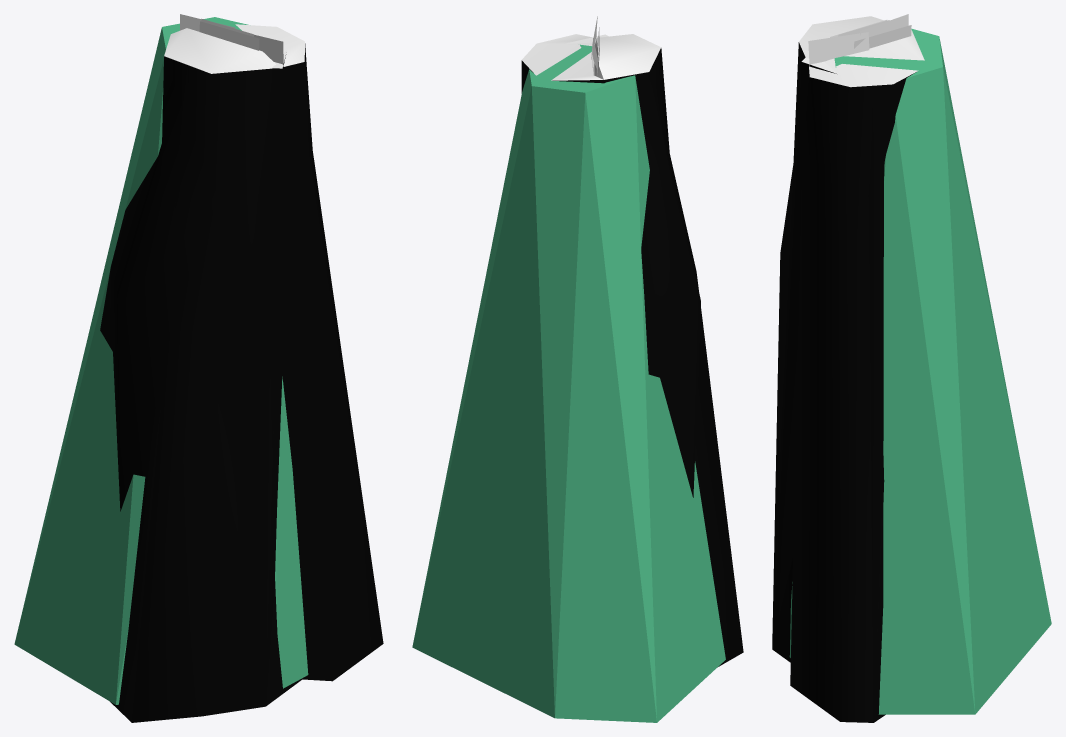
The model's file is tree_oak_chopped_a.dae.
3 views of the same model, side by side, from view 1: azimuth 30°, elevation 25°; view 2: azimuth 150°, elevation 25°; view 3: azimuth 270°, elevation 25° (orthographic). The views are drawn at different scales.
Visible parts, largest first — view 1: tree_oak_large_c180, Colmesh-1, tree_oak_large_c100; view 2: Colmesh-1, tree_oak_large_c180, tree_oak_large_c100; view 3: Colmesh-1, tree_oak_large_c180, tree_oak_large_c100.
Boxes of the visible parts, left/top/right/bottom form: tree_oak_large_c180: left=100, top=14, right=383, bottom=722; Colmesh-1: left=14, top=17, right=308, bottom=704; tree_oak_large_c100: left=110, top=50, right=302, bottom=722; Colmesh-1: left=412, top=44, right=725, bottom=722; tree_oak_large_c180: left=521, top=16, right=742, bottom=646; tree_oak_large_c100: left=566, top=34, right=743, bottom=667; Colmesh-1: left=789, top=28, right=1051, bottom=714; tree_oak_large_c180: left=772, top=14, right=924, bottom=722; tree_oak_large_c100: left=772, top=57, right=885, bottom=722.
Size of the model in its own units: 1.55 by 1.35 by 3.35.
